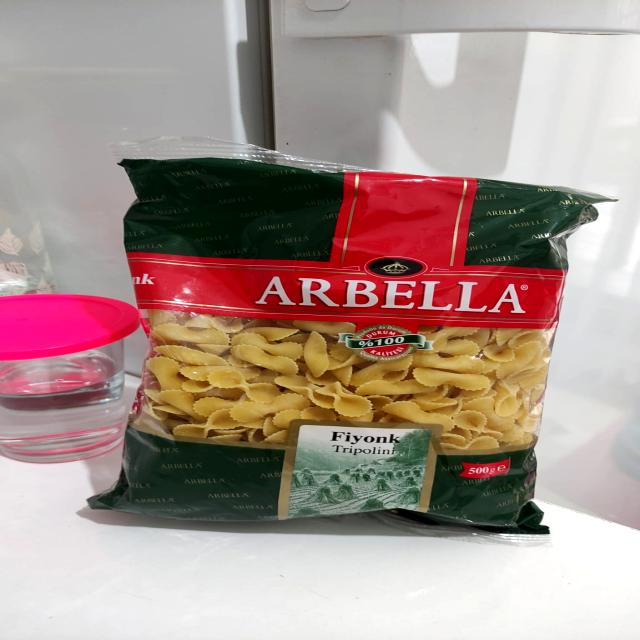farfalle pasta: (91, 143, 592, 542)
